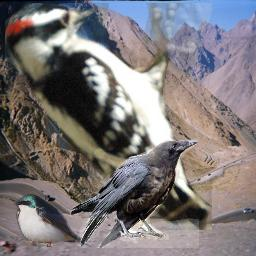Crow: (70, 139, 199, 248)
Swallow: (13, 193, 92, 247)
Woodpecker: (5, 3, 212, 230)
